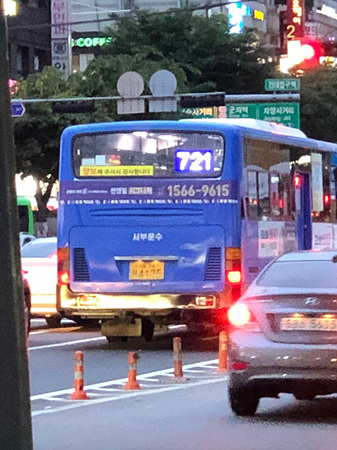bnum: (175, 149, 213, 172)
